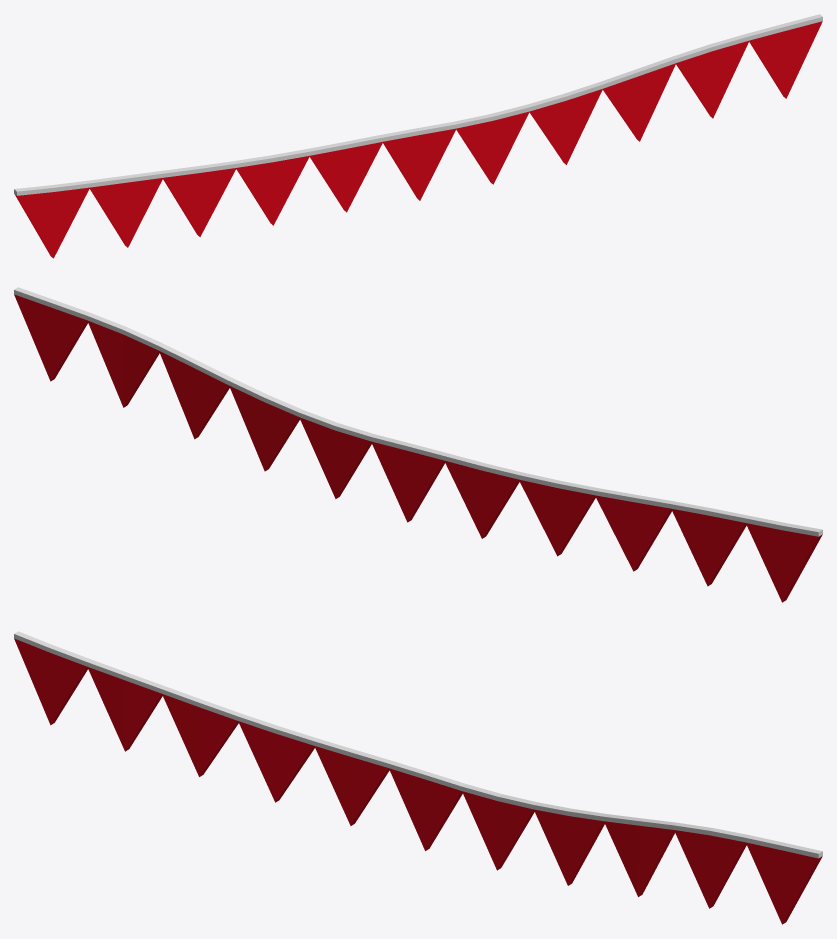
File: Flags.fbx
3 views of the same model, one above another, from view 1: azimuth 30°, elevation 25°; view 2: azimuth 150°, elevation 25°; view 3: azimuth 330°, elevation 25° (orthographic). The views are drawn at different scales.
Visible parts, largest first — view 1: Cube.015; view 2: Cube.015; view 3: Cube.015.
Part boxes in pixels (left/top/right/bottom): Cube.015: left=14, top=14, right=822, bottom=258; Cube.015: left=14, top=287, right=822, bottom=602; Cube.015: left=14, top=631, right=822, bottom=924.
Size of the model in its own units: 531 by 69.41 by 43.1.
